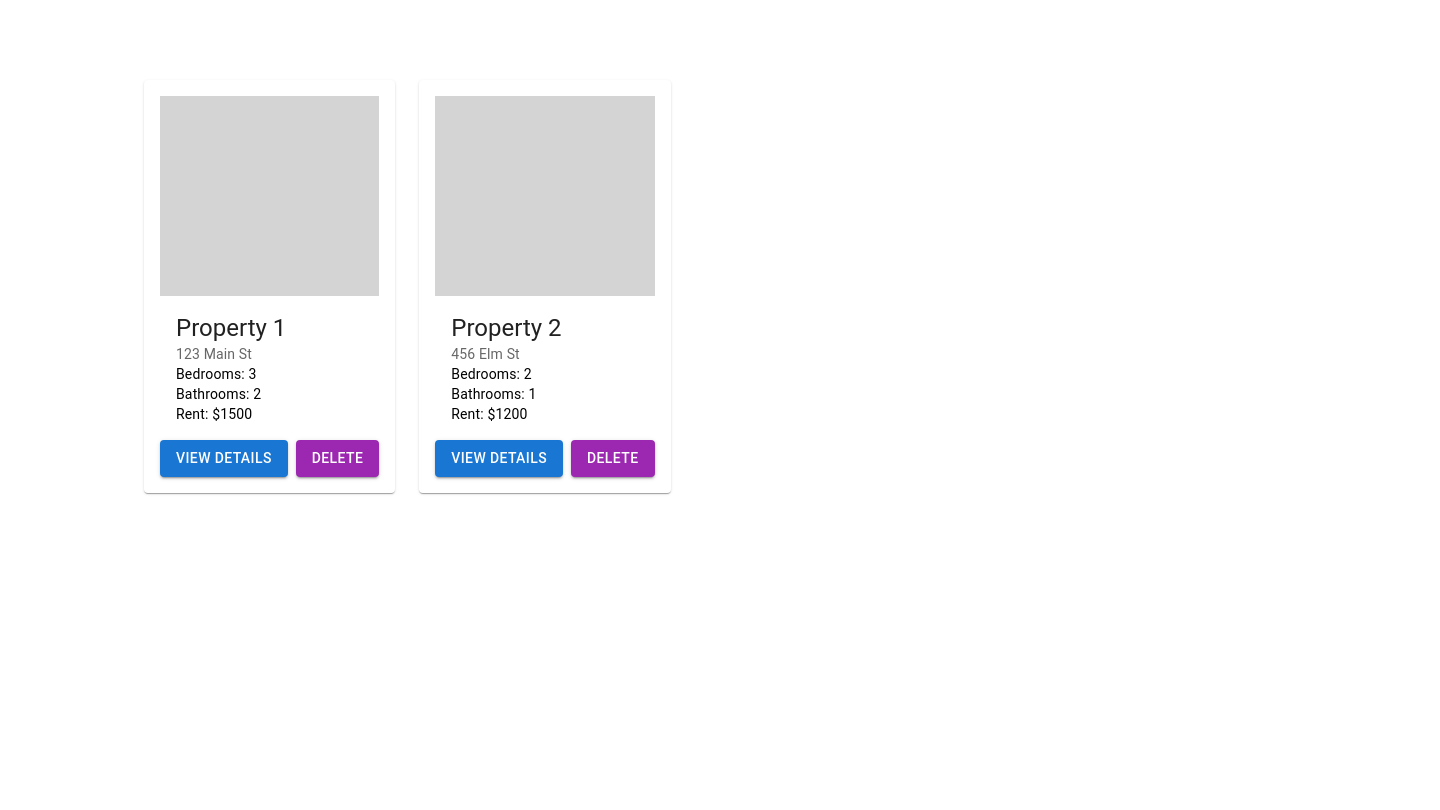
Test case: PropertiesList Component › opens the details dialog when View Details is clicked
Expected: the heading "Property 1" is shown, 176,314 -> 286,342
Click View Details button
Click the button "View Details" below "1500" at (224, 458), box 160,440 -> 288,477
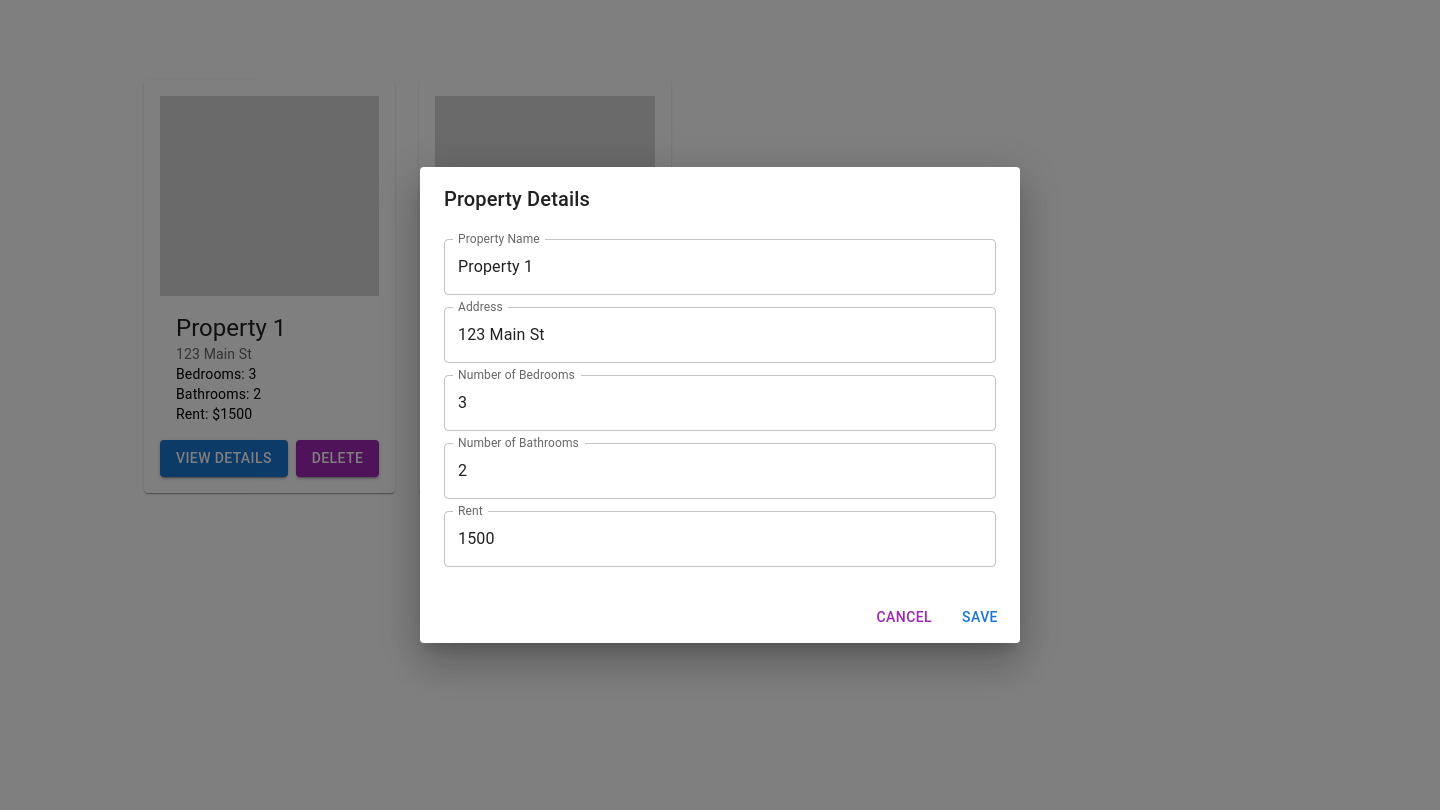
Result: the field showing "Property 1" is shown at 444,239 -> 996,295
